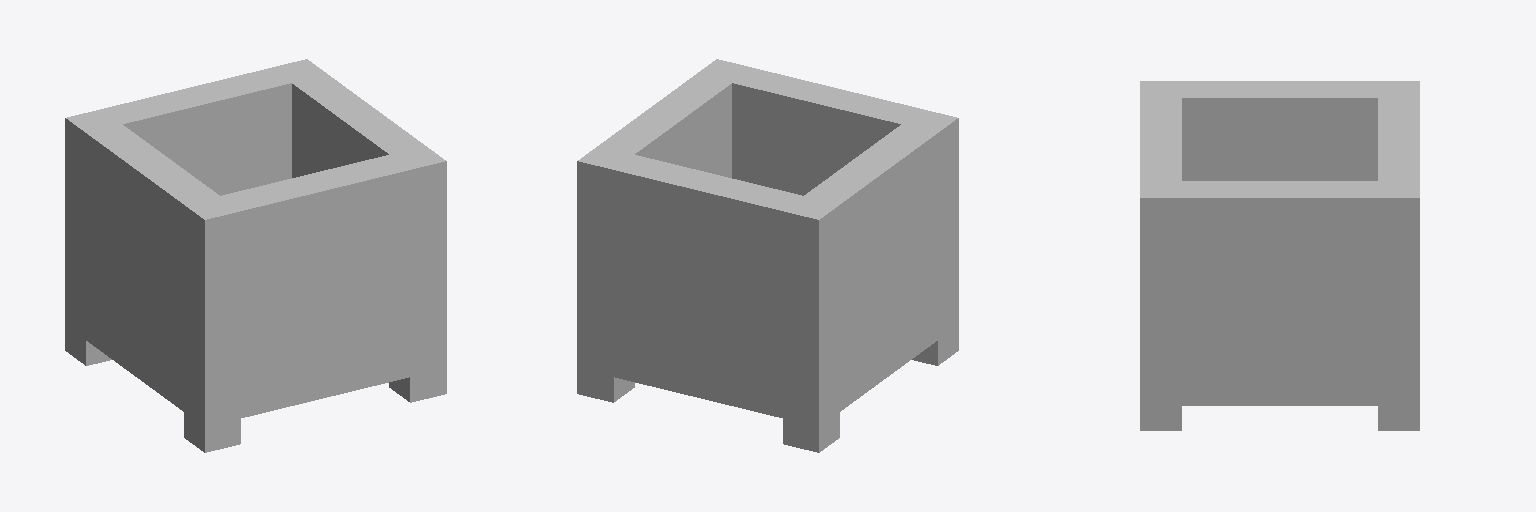
Rendered from Water thing 1.obj.
The picture shows the model from 3 angles: view 1: azimuth 30°, elevation 25°; view 2: azimuth 150°, elevation 25°; view 3: azimuth 270°, elevation 25°; orthographic projection.
Visible parts, largest first — view 1: Water_Thing; view 2: Water_Thing; view 3: Water_Thing.
Part boxes in pixels (x1,y1,x2,y2): Water_Thing: (65,59,446,452); Water_Thing: (577,59,958,452); Water_Thing: (1140,81,1419,430).
Bounding box in the file's own units: 7.55 × 6.96 × 7.55.